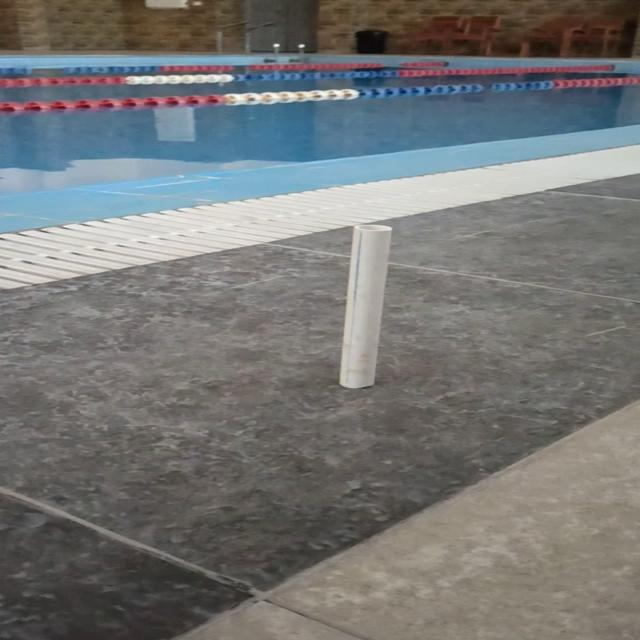Cube: (336, 223, 392, 389)
